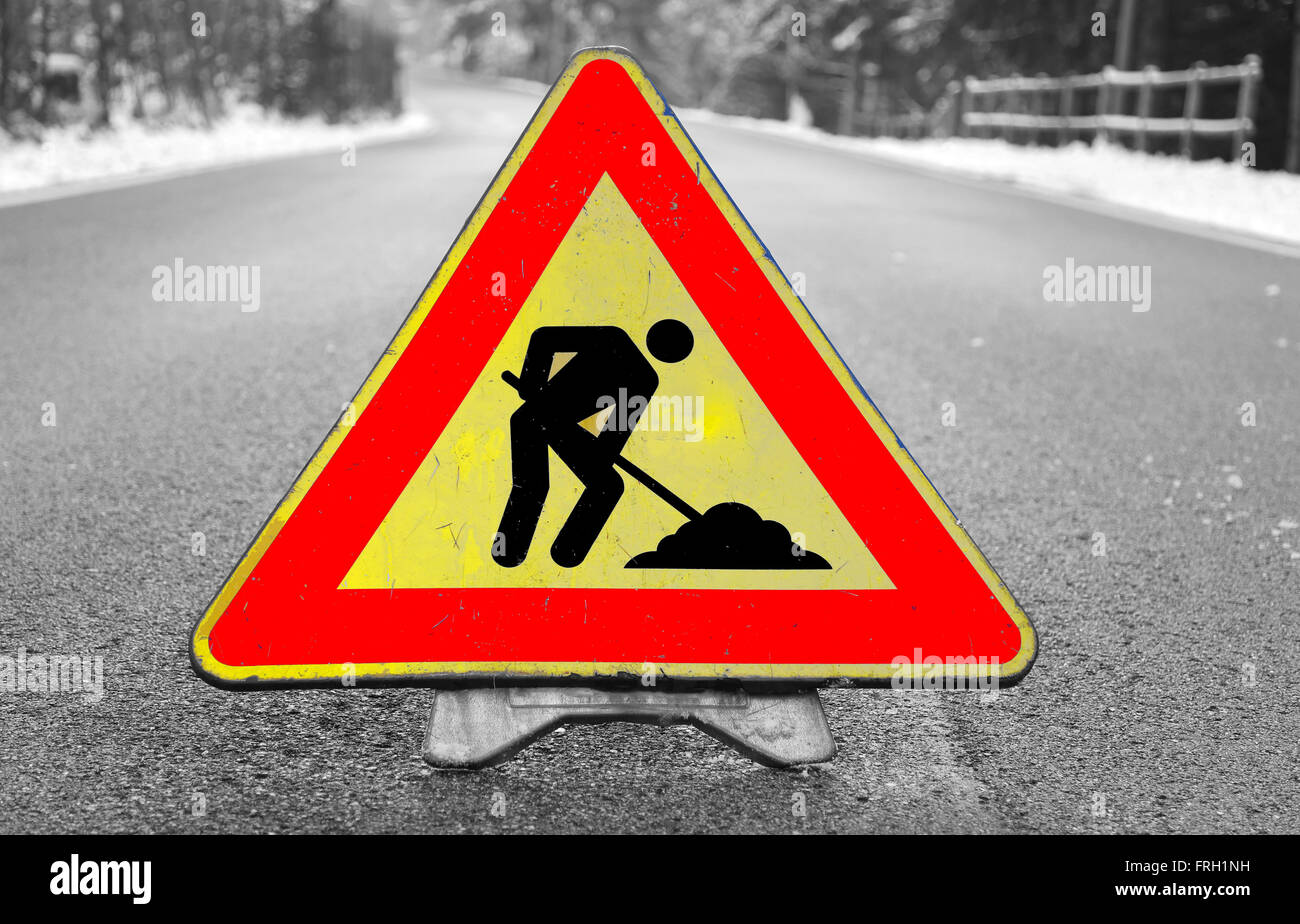caution: (179, 40, 1041, 693)
